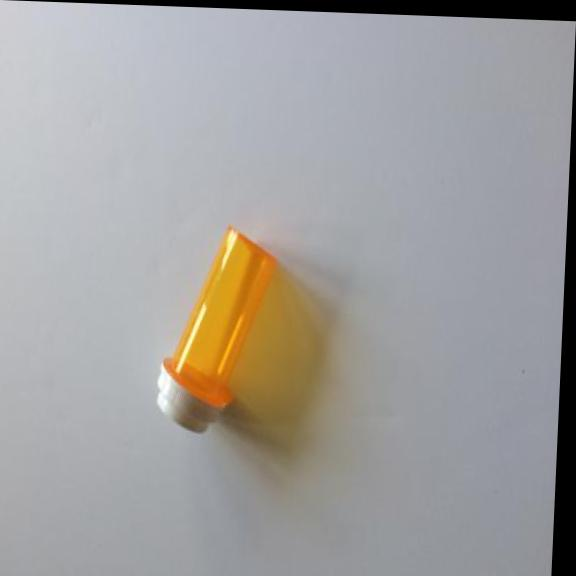Plastik: (147, 210, 286, 437)
